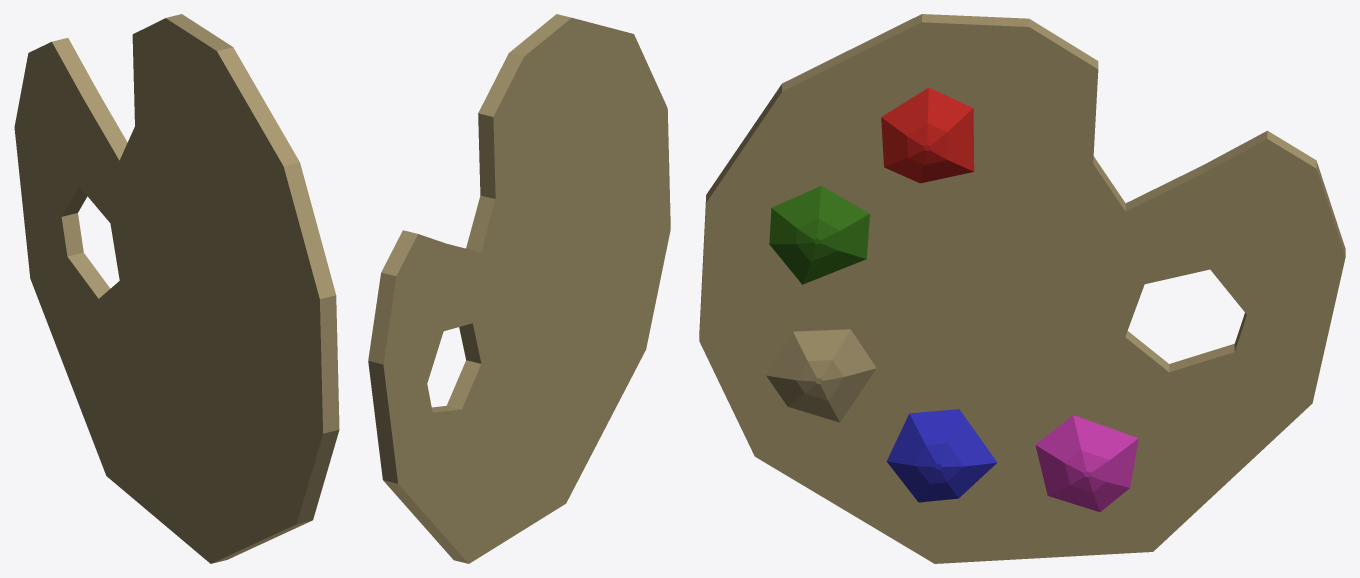
Rendered from Painting_Palette.fbx.
The picture shows the model from 3 angles, left to right: view 1: azimuth 30°, elevation 25°; view 2: azimuth 150°, elevation 25°; view 3: azimuth 270°, elevation 25°; orthographic projection. The views are drawn at different scales.
Parts seen in each view (by area): view 1: Plane; view 2: Plane; view 3: Plane.
Part boxes in pixels (x1=…): Plane: x1=14, y1=14, x2=339, y2=563; Plane: x1=368, y1=14, x2=670, y2=563; Plane: x1=699, y1=14, x2=1345, y2=563.
Bounding box in the file's own units: 5.77 × 84.43 × 91.3.
